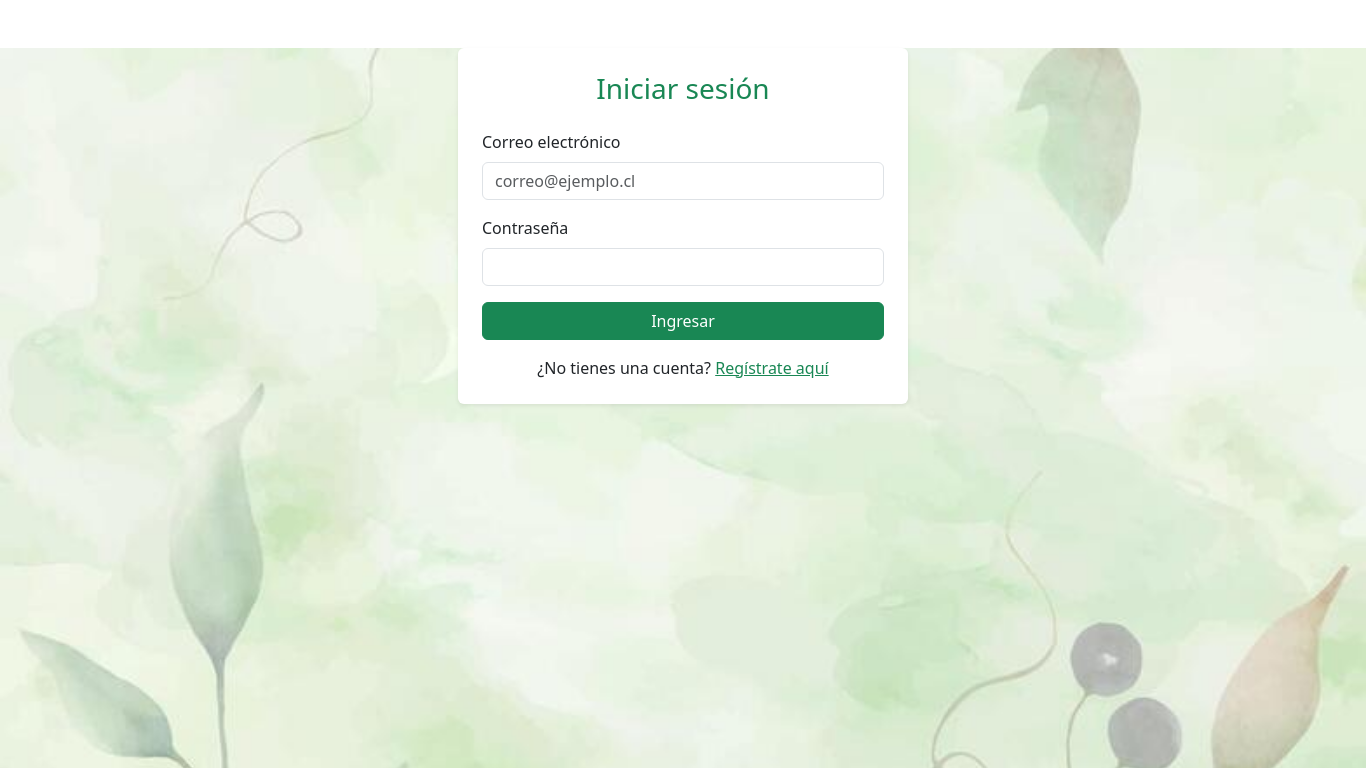
InicioSesion › solicita el correo cuando está vacío
Click the button "Ingresar".
click(683, 321)  # box [482,302,884,340]
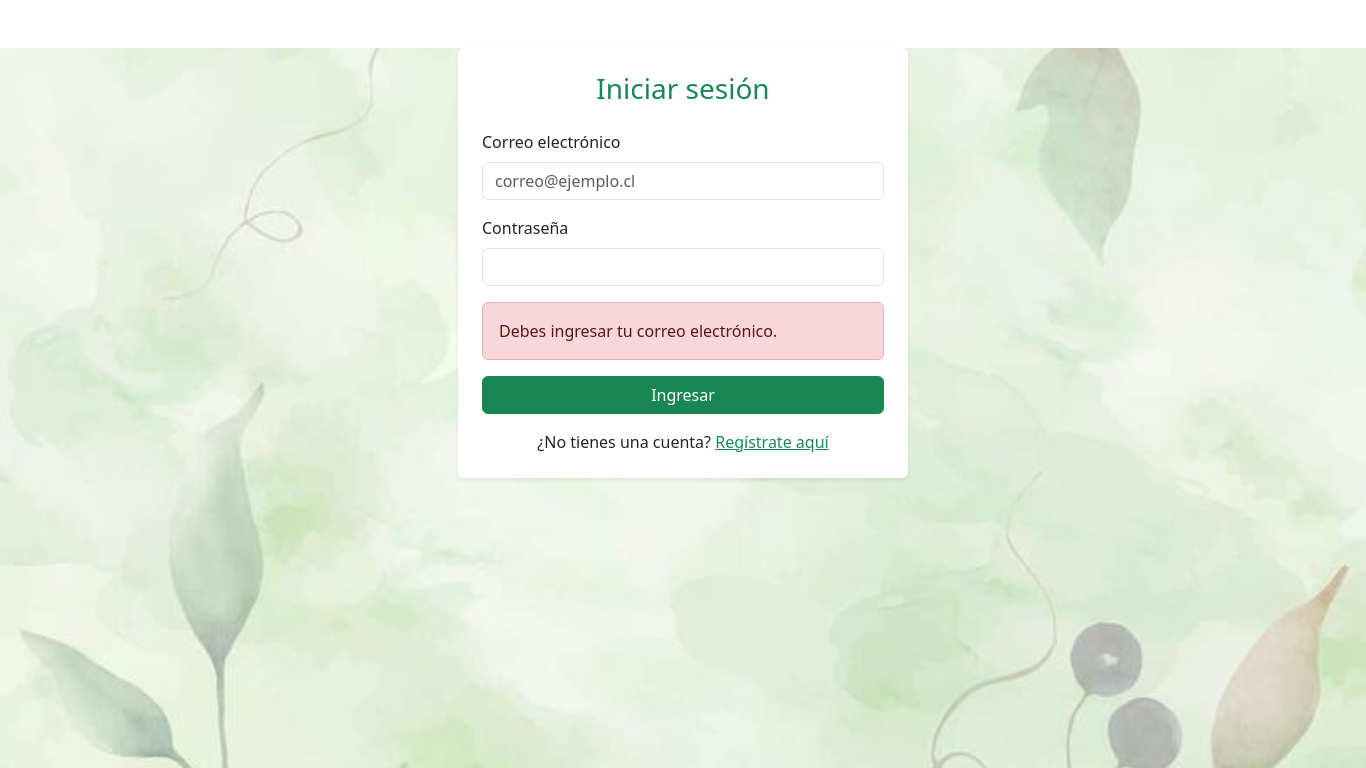
expect the text "Debes ingresar tu correo electrónico." is shown: met, box [482,302,884,360]
